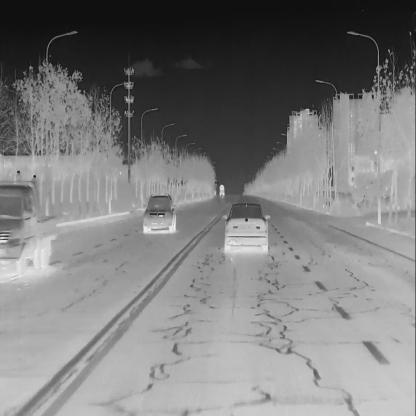car: (224, 200, 269, 253), (143, 193, 177, 234)
truck: (0, 178, 61, 284), (218, 182, 225, 198)
